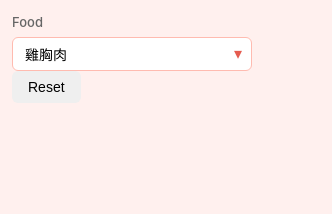
SearchableSelect › wraps arrow navigation and exposes the active and selected options
The width and height of the screenshot is (332, 214).
Later steps or results of the test are not shown.
Click the dropdown. click: (132, 54)
box: [12,37,252,71]
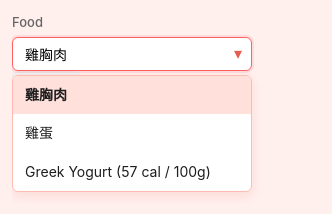
Press Arrowup
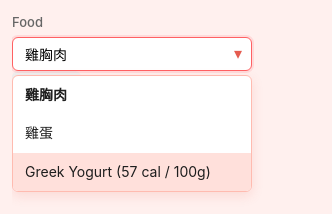
Expected: the text "Greek Yogurt" is shown, [13,153,251,191]
